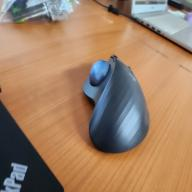mouse: (80, 52, 150, 154)
